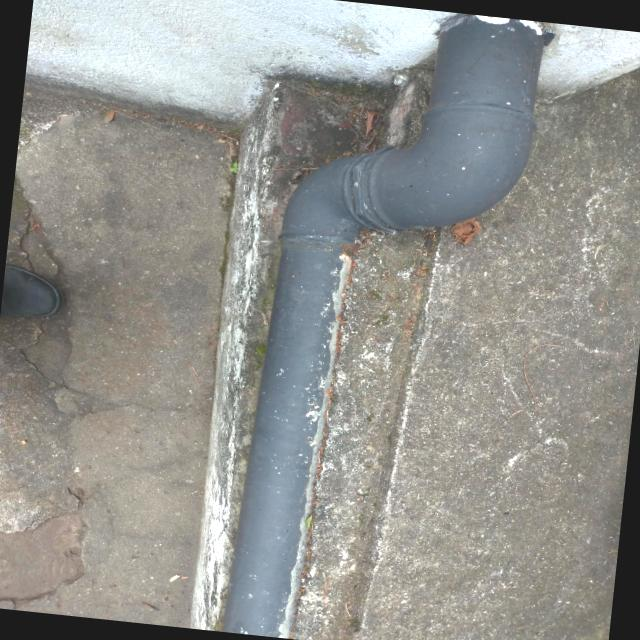gas: (225, 147, 359, 640), (418, 16, 542, 208)
